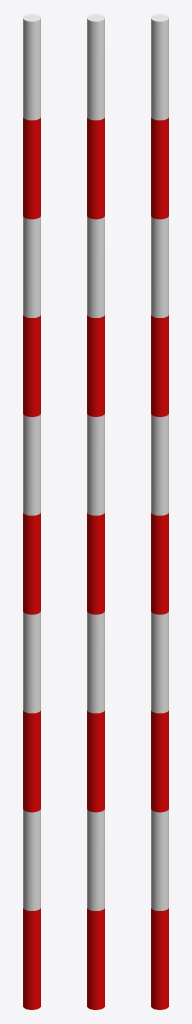
Rendered from flag pole.fbx.
3 renders of one model, left to right at view 1: azimuth 90°, elevation 25°; view 2: azimuth 150°, elevation 25°; view 3: azimuth 270°, elevation 25°, orthographic.
Visible parts, largest first — view 1: Flag_Pole; view 2: Flag_Pole; view 3: Flag_Pole.
Boxes of the visible parts, box(x1,y1,x2,y2) form: Flag_Pole: box(23, 14, 40, 1009); Flag_Pole: box(87, 14, 104, 1009); Flag_Pole: box(151, 14, 168, 1009).
Size of the model in its own units: 50 by 3000 by 50.
